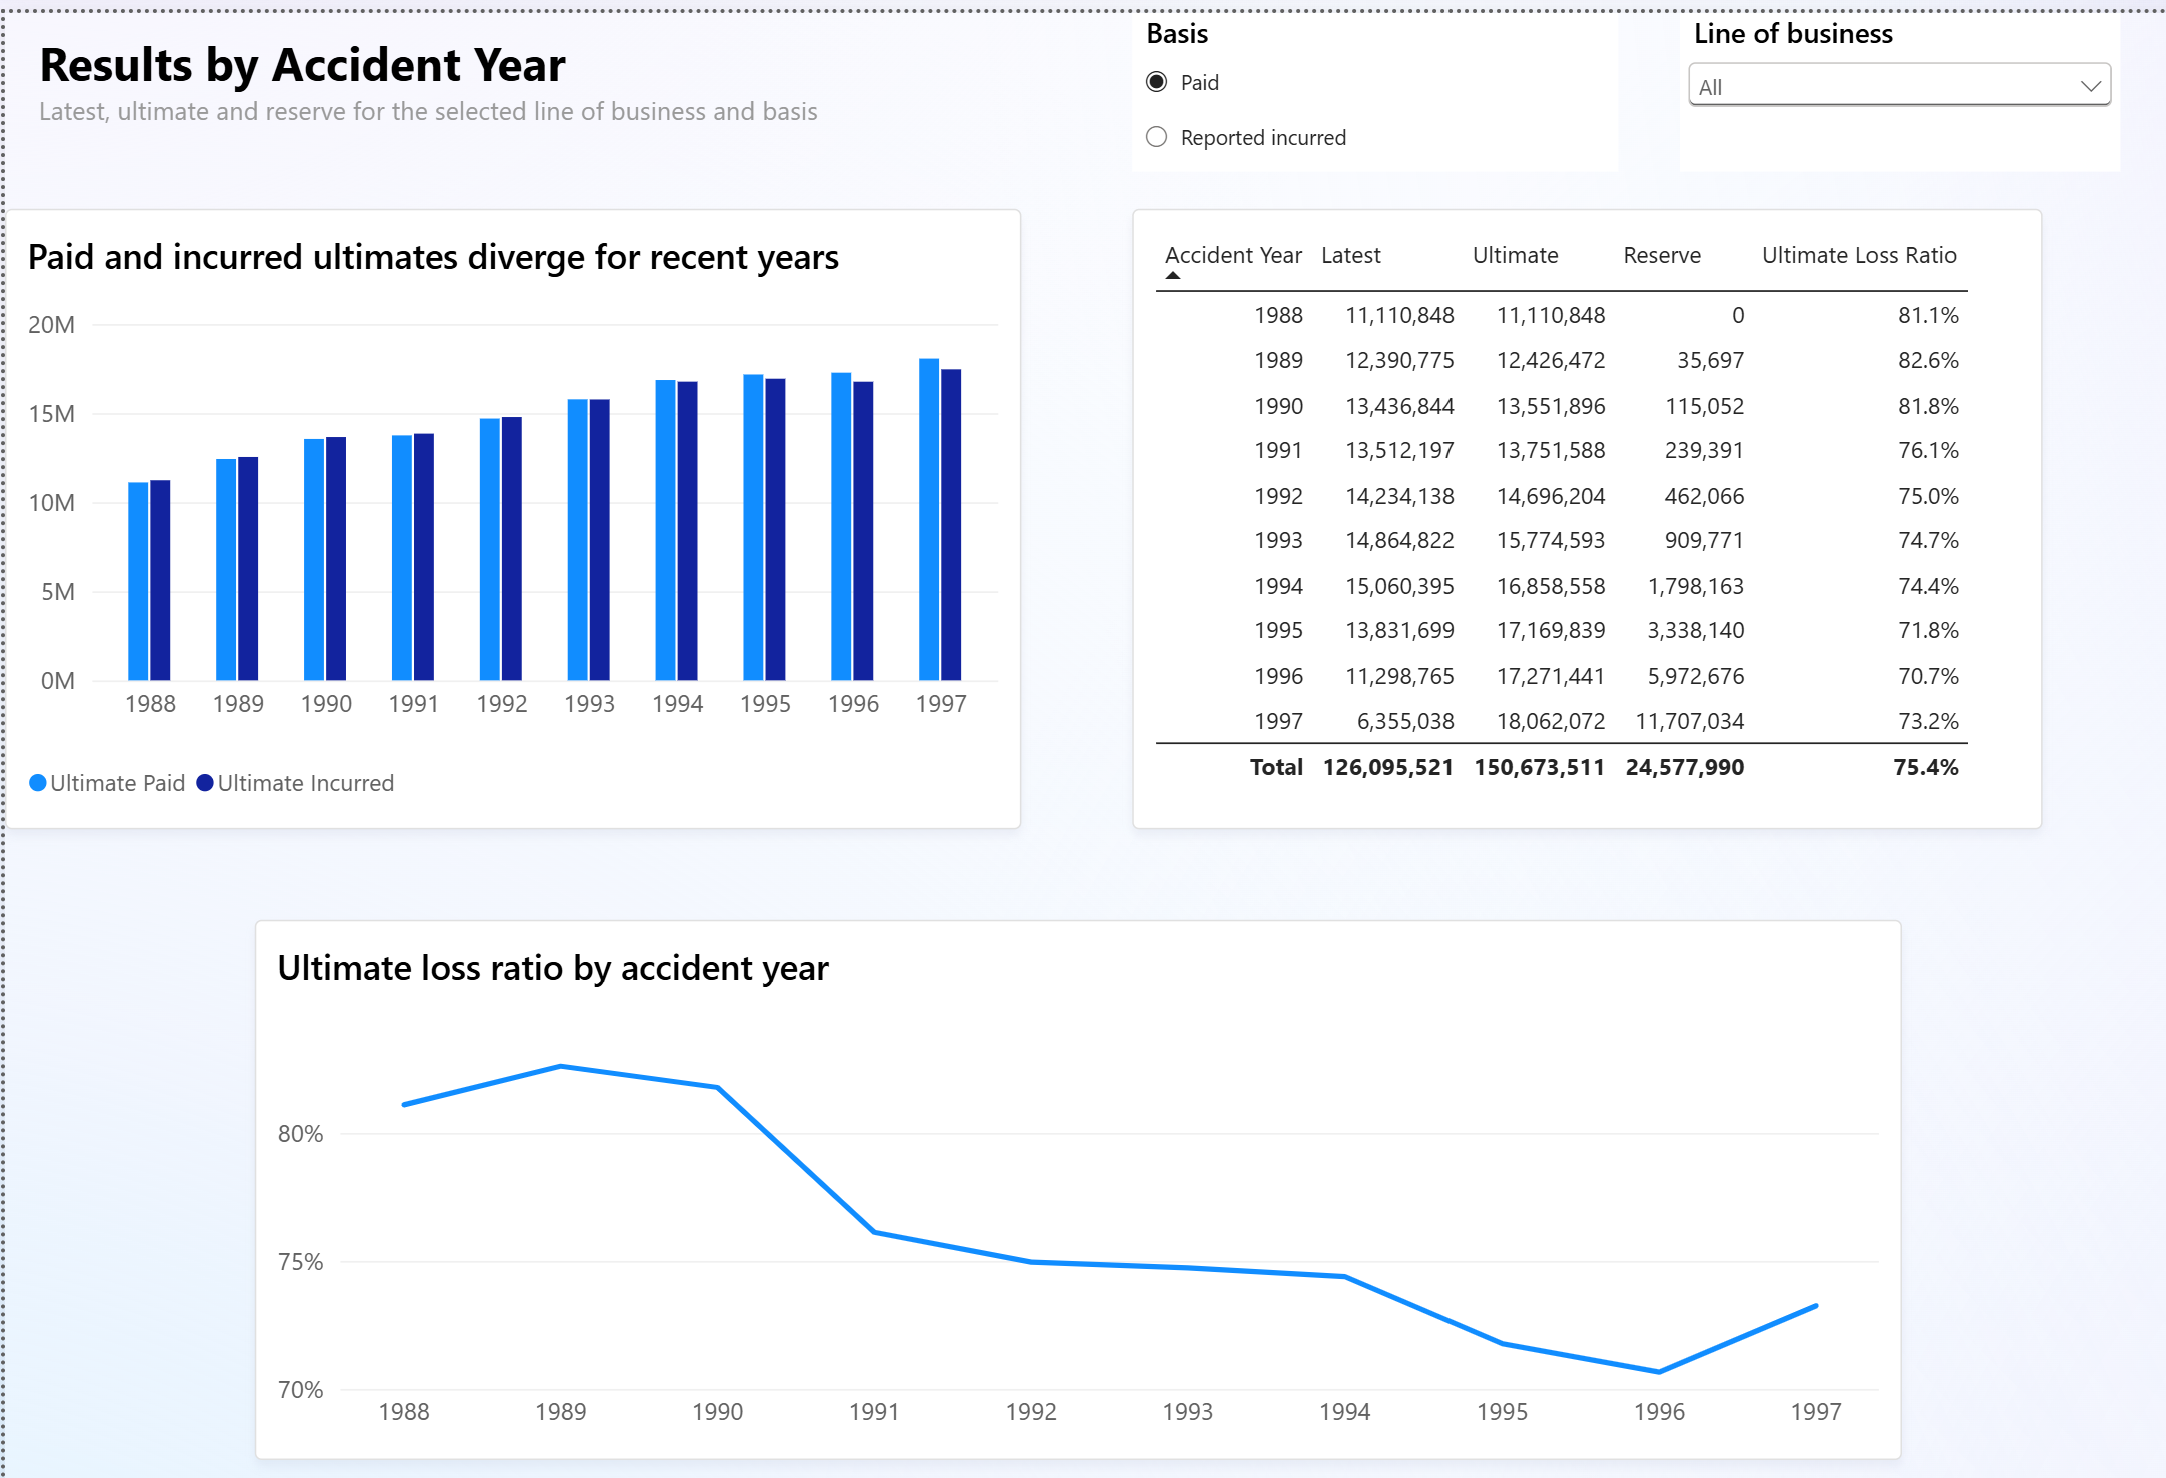

The dashboard page shown, as its layout file describes it:
{"tool":"powerbi","page":{"name":"By Accident Year","canvas":[1920,1080],"ordinal":2},"visuals":[{"type":"clusteredColumnChart","title":"Paid and incurred ultimates diverge for recent years","fields":{"Category":["dim_accident_year.accident_year"],"Y":["_Measure.Ultimate Paid","_Measure.Ultimate Incurred"]},"box":[0,112.5,586.5,358.3],"z":2},{"type":"tableEx","fields":{"Values":["dim_accident_year.accident_year","_Measure.Latest","_Measure.Ultimate","_Measure.Reserve","_Measure.Ultimate Loss Ratio"]},"box":[650,112.5,525,358.3],"z":3},{"type":"lineChart","title":"Ultimate loss ratio by accident year","fields":{"Category":["dim_accident_year.accident_year"],"Y":["_Measure.Ultimate Loss Ratio"]},"box":[144.4,523.6,950,312.5],"z":4},{"type":"slicer","fields":{"Values":["dim_measure.measure"]},"box":[650,0,280.2,91.7],"z":5},{"type":"slicer","fields":{"Values":["dim_lob.lob_name"]},"box":[966.7,0,254.2,91.7],"z":6},{"type":"textbox","box":[20,10,600,70],"z":7}]}

Visuals, with their boxes on the page's 1920x1080 design canvas (x1, y1, x2, y2). These are canvas units, not pixel positions in the 2166x1478 screenshot, which may show the page scaled, cropped or inside an application window:
"Paid and incurred ultimates diverge for recent years" clusteredColumnChart: rect(0, 112, 586, 471)
tableEx - dim_accident_year.accident_year x _Measure.Latest: rect(650, 112, 1175, 471)
"Ultimate loss ratio by accident year" lineChart: rect(144, 524, 1094, 836)
slicer - dim_measure.measure: rect(650, 0, 930, 92)
slicer - dim_lob.lob_name: rect(967, 0, 1221, 92)
textbox: rect(20, 10, 620, 80)
